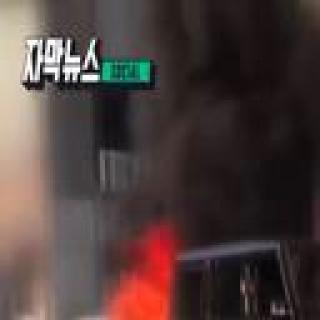fire: (118, 284, 168, 320)
